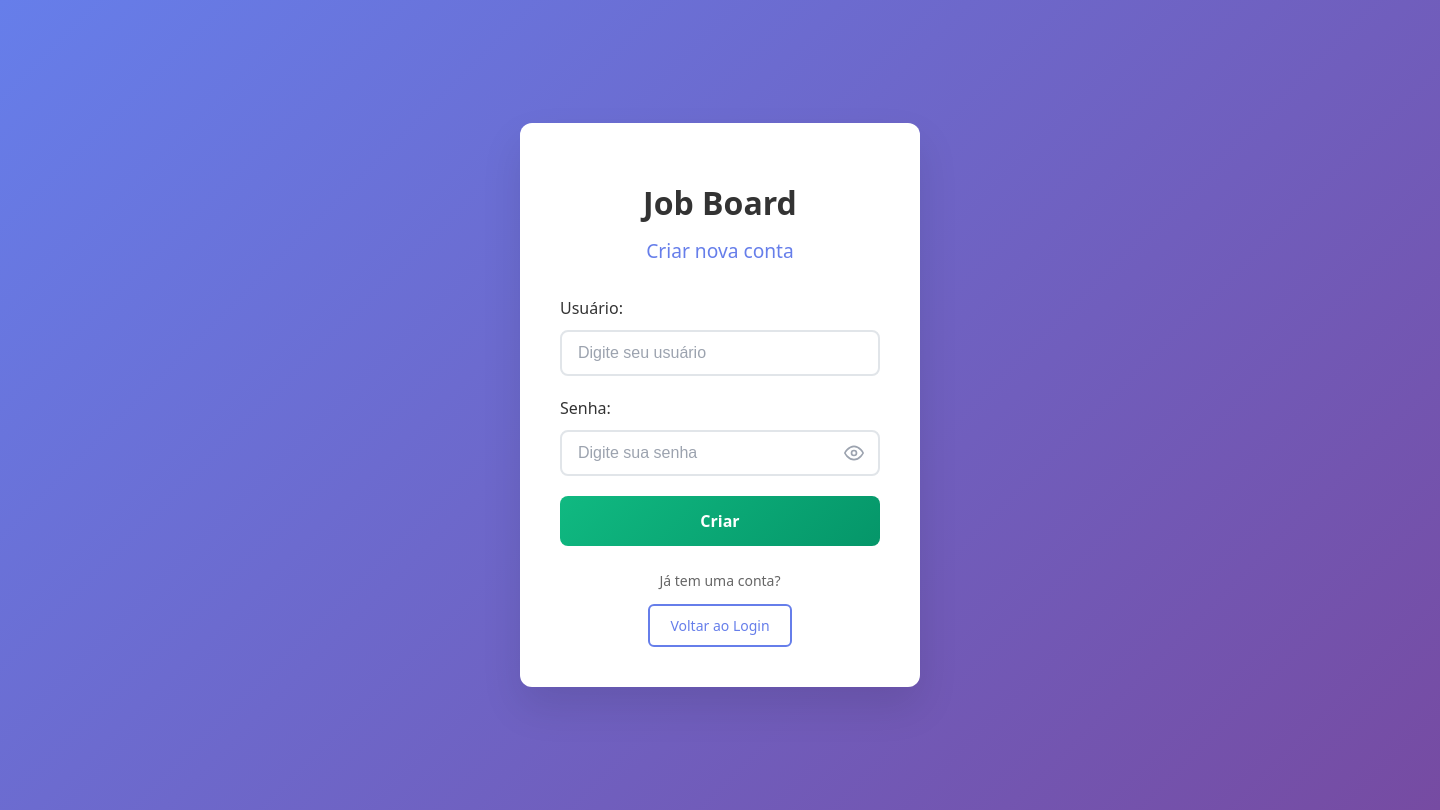
Test: Register › shows error when submitting with only password
Type "testpass" into the password field labelled "Senha:" at x=720, y=452, box [560,430,880,476]
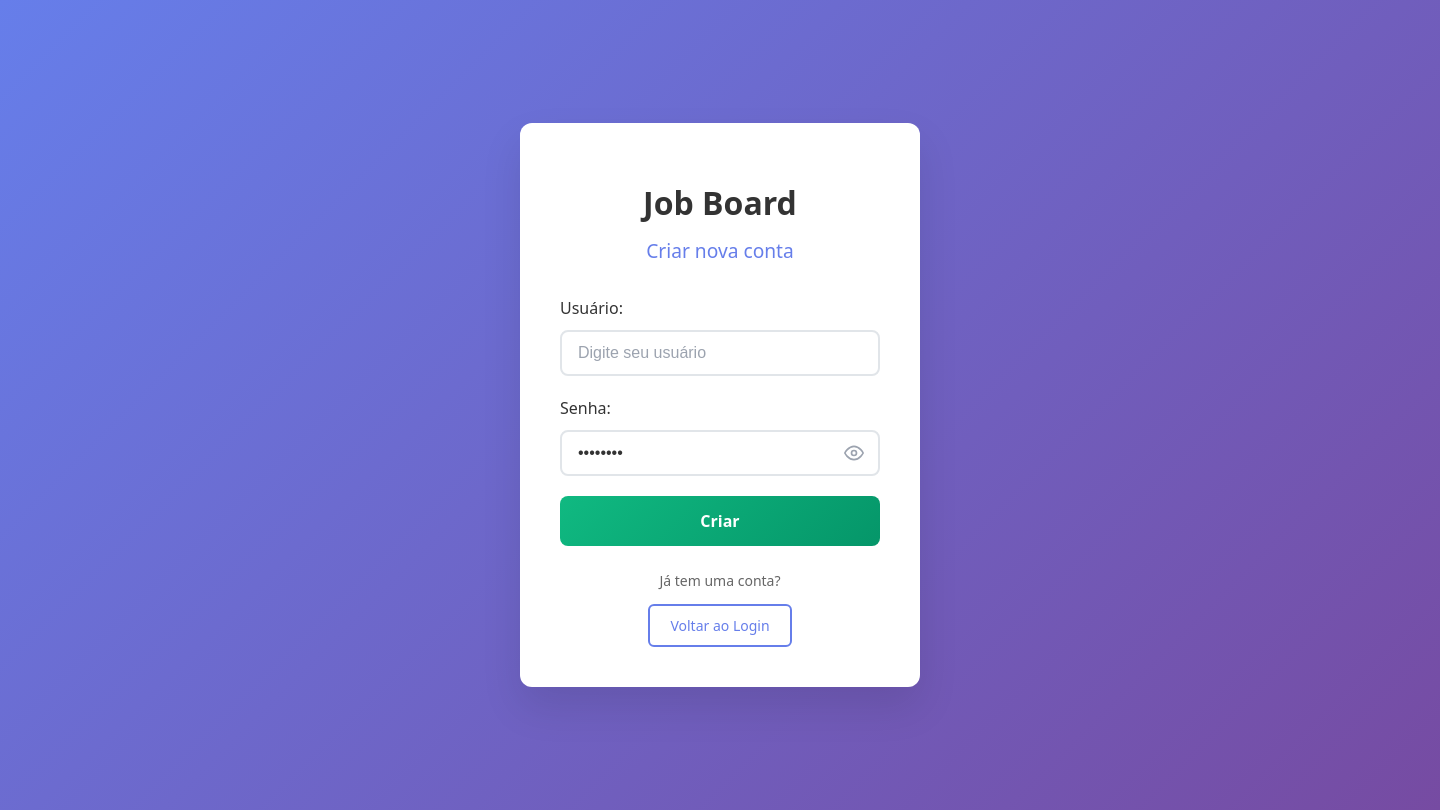
Click the button "Criar" at x=720, y=520, box [560,496,880,546]
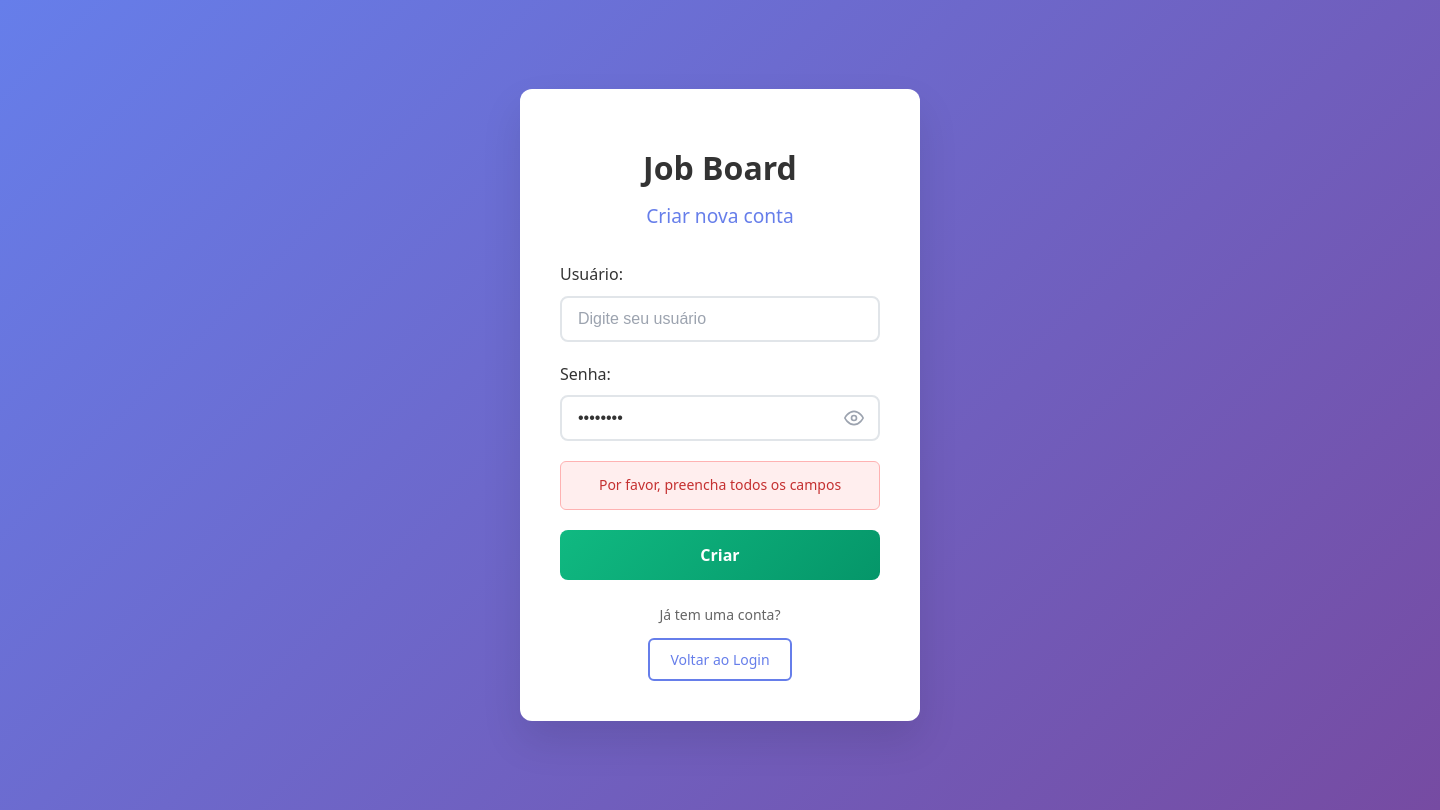
Expected: the text "Por favor, preencha todos os campos" is shown, [560,461,880,510]
